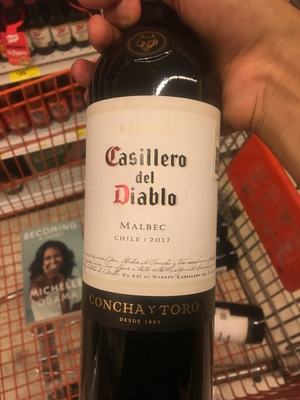casillero del diablo malbec: (68, 11, 247, 396)
